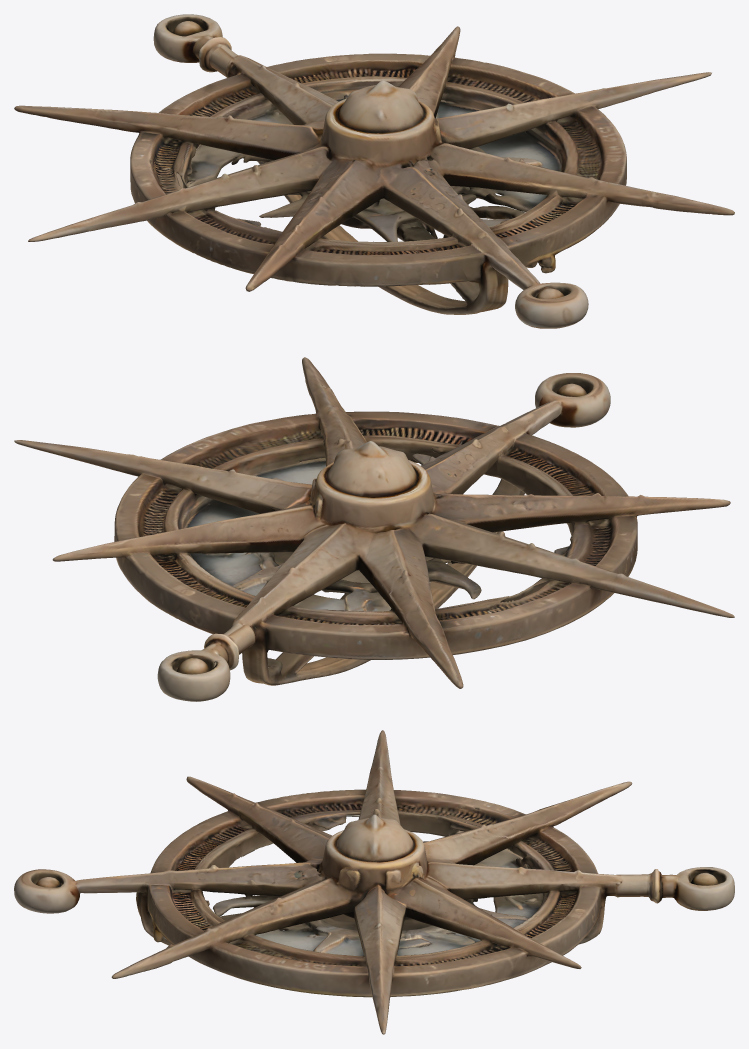
The model's file is prop-compass-giant.glb.
3 views of the same model, one above another, from view 1: azimuth 30°, elevation 25°; view 2: azimuth 150°, elevation 25°; view 3: azimuth 270°, elevation 25° (orthographic). The views are drawn at different scales.
Visible parts, largest first — view 1: tripo_node_3be8e447-bcd2-4cea-850d-3e3b320bbe89; view 2: tripo_node_3be8e447-bcd2-4cea-850d-3e3b320bbe89; view 3: tripo_node_3be8e447-bcd2-4cea-850d-3e3b320bbe89.
Boxes of the visible parts, left/top/right/bottom form: tripo_node_3be8e447-bcd2-4cea-850d-3e3b320bbe89: left=14, top=14, right=734, bottom=328; tripo_node_3be8e447-bcd2-4cea-850d-3e3b320bbe89: left=14, top=357, right=734, bottom=701; tripo_node_3be8e447-bcd2-4cea-850d-3e3b320bbe89: left=14, top=730, right=734, bottom=1034.
Size of the model in its own units: 0.7596 by 0.2 by 0.7615.
Materials: 1 (1 with a texture image).
